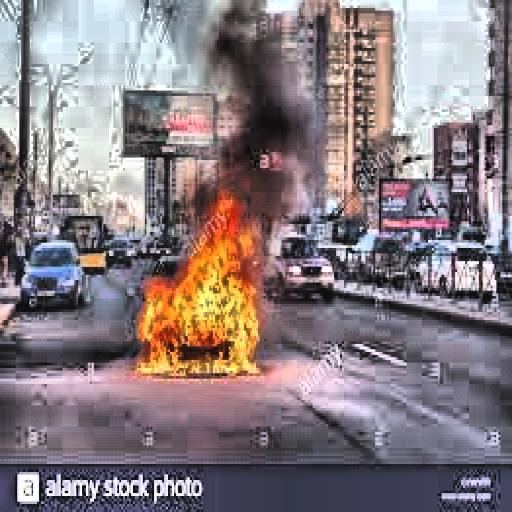fire: (133, 189, 268, 392)
